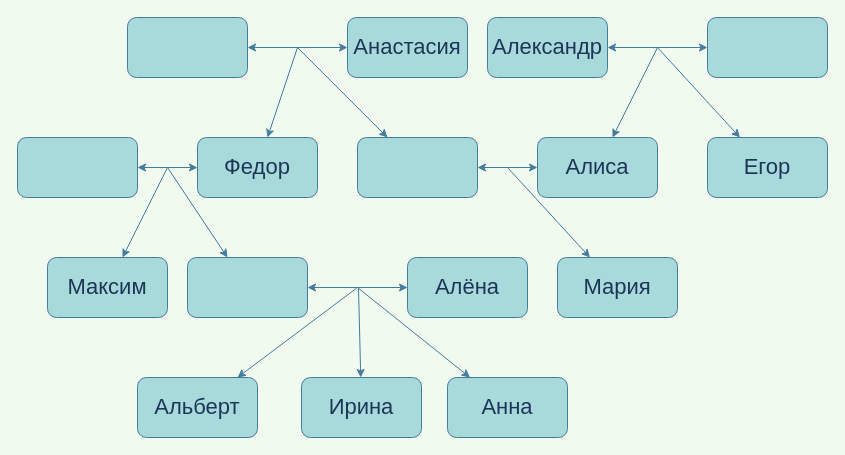
Some shapes in this 845 by 455 pixel diagram are drawn without their labels. The box of each missing label's shape, as (x1, y1, x2, y2) in pixels:
Владимир: (186, 256, 308, 318)
Екатерина: (16, 136, 138, 198)
Иван: (126, 16, 248, 78)
Сергей: (356, 136, 478, 198)
Софья: (706, 16, 828, 78)
